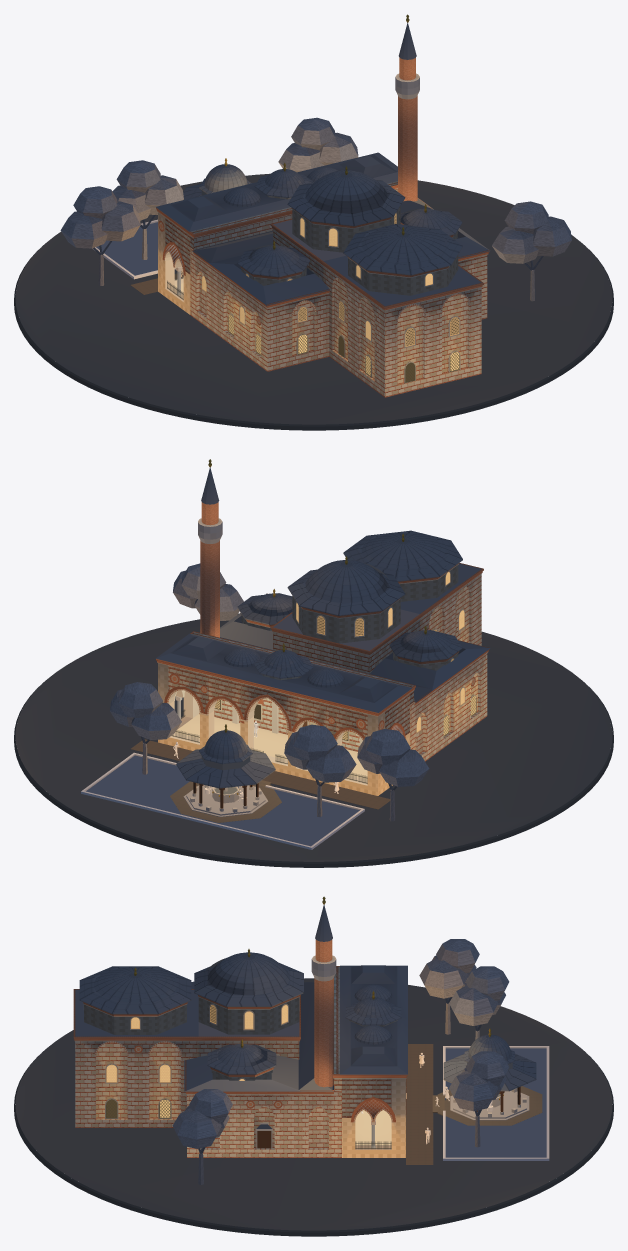
File: orhan-bey-camii_v11_night_sunum.glb
3 renders of one model, top to bottom at view 1: azimuth 30°, elevation 25°; view 2: azimuth 150°, elevation 25°; view 3: azimuth 270°, elevation 25°, orthographic.
Parts seen in each view (by area): view 1: Zemin_Kaide, Cami_Govde, Cami_Mihrap, Cami_SonCemaat, Kubbe_Mihrap, Kubbe_Ana, Cami_Ortu, Cevre_Agac_01, Cevre_Agac_04, Minare, Kubbe_Tabhaneler, Cevre_Agac_02 (+5 smaller); view 2: Zemin_Kaide, Cami_SonCemaat, Cami_Govde, Cevre_Doseme, Kubbe_Ana, Sadirvan, Kubbe_Mihrap, Cami_Ortu, Kubbe_Tabhaneler, Minare, Cevre_Agac_03, Cevre_Agac_04 (+5 smaller); view 3: Zemin_Kaide, Cami_Govde, Cami_SonCemaat, Cevre_Doseme, Cami_Mihrap, Kubbe_Ana, Kubbe_Mihrap, Cami_Ortu, Sadirvan, Minare, Cevre_Agac_02, Cevre_Agac_03 (+5 smaller).
Part boxes in pixels (box(x1,y1,x2,y2)): Zemin_Kaide: box(14, 173, 613, 430); Cami_Govde: box(156, 163, 489, 383); Cami_Mihrap: box(323, 266, 481, 397); Cami_SonCemaat: box(156, 152, 397, 314); Kubbe_Mihrap: box(343, 224, 462, 295); Kubbe_Ana: box(287, 170, 405, 252); Cami_Ortu: box(192, 198, 490, 306); Cevre_Agac_01: box(492, 201, 571, 263); Cevre_Agac_04: box(60, 186, 140, 248); Minare: box(395, 14, 419, 201); Kubbe_Tabhaneler: box(237, 208, 462, 285); Cevre_Agac_02: box(278, 117, 358, 172); Zemin_Kaide: box(14, 613, 613, 867); Cami_SonCemaat: box(156, 633, 412, 795); Cami_Govde: box(156, 563, 489, 779); Cevre_Doseme: box(81, 739, 390, 849); Kubbe_Ana: box(287, 560, 405, 643); Sadirvan: box(176, 724, 275, 816); Kubbe_Mihrap: box(343, 530, 462, 601); Cami_Ortu: box(220, 563, 490, 702); Kubbe_Tabhaneler: box(237, 593, 462, 670); Minare: box(198, 459, 222, 637); Cevre_Agac_03: box(284, 724, 356, 782); Cevre_Agac_04: box(357, 729, 429, 786); Zemin_Kaide: box(14, 978, 613, 1236); Cami_Govde: box(73, 966, 407, 1157); Cami_SonCemaat: box(340, 965, 407, 1157); Cevre_Doseme: box(406, 1044, 549, 1164); Cami_Mihrap: box(75, 1041, 198, 1127); Kubbe_Ana: box(194, 952, 303, 1034); Kubbe_Mihrap: box(79, 966, 191, 1034); Cami_Ortu: box(75, 981, 333, 1091); Sadirvan: box(443, 1028, 536, 1120); Minare: box(311, 896, 336, 1087); Cevre_Agac_02: box(449, 1051, 509, 1111); Cevre_Agac_03: box(449, 966, 509, 1025).
Bounding box in the file's own units: 60.76 × 29.25 × 60.76.
Materials: 32 (20 with a texture image).
